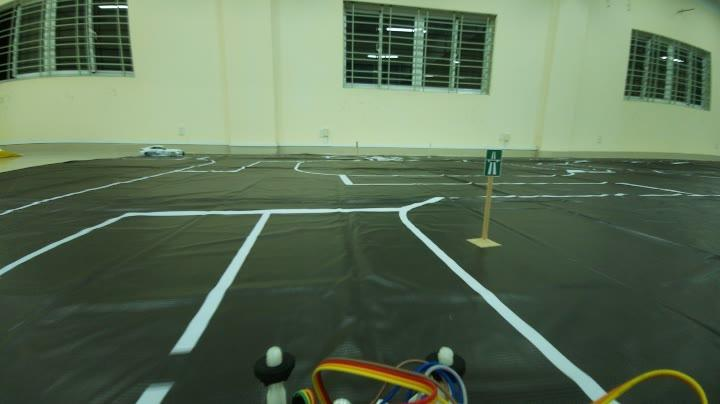highway_entry: (476, 143, 508, 180)
